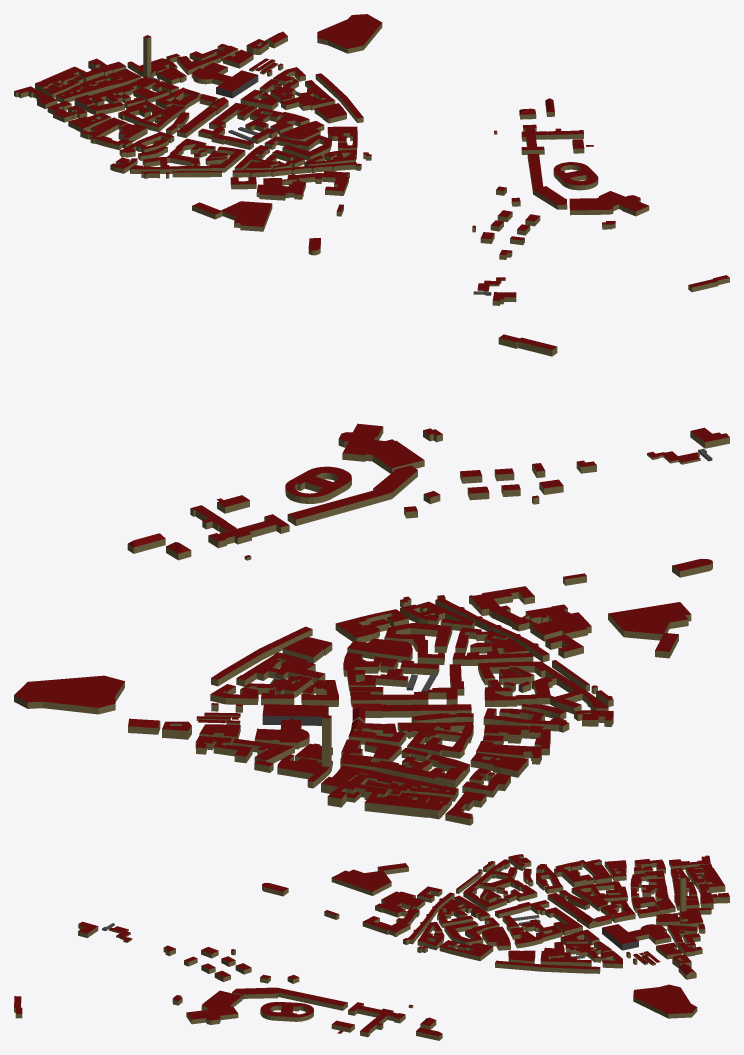
File: Ingolstadt_Tile_6_7.obj
The picture shows the model from 3 angles, top to bottom: view 1: azimuth 30°, elevation 25°; view 2: azimuth 150°, elevation 25°; view 3: azimuth 270°, elevation 25°; orthographic projection. The views are drawn at different scales.
Parts seen in each view (by area): view 1: Building Stadttheater, Building Sportbad a. d. Jahnstr., Building338, Building334, Building Turm Baur, Building333, Building Sparkasse Ingolstadt, Building Stadt Ingolstadt, Building337, Building221, Building241, Building Technisches Rathaus (+2 smaller); view 2: Building Stadttheater, Building Sportbad a. d. Jahnstr., Building334, Building338, Building333, Building Turm Baur, Building337, Building Sparkasse Ingolstadt, Building Leo-von-Klenze-Berufsschule II, Building241, Building Stadt Ingolstadt, Building Technisches Rathaus (+3 smaller); view 3: Building Stadttheater, Building334, Building Sportbad a. d. Jahnstr., Building338, Building Turm Baur, Building337, Building333, Building Sparkasse Ingolstadt, Building Stadt Ingolstadt, Building Leo-von-Klenze-Berufsschule II, Building241, Building221 (+5 smaller).
Boxes of the visible parts, x1,y1,x2,y2 form: Building Stadttheater: [317, 14, 382, 53]; Building Sportbad a. d. Jahnstr.: [221, 201, 272, 231]; Building338: [569, 191, 634, 215]; Building334: [527, 154, 567, 209]; Building Turm Baur: [553, 162, 598, 190]; Building333: [287, 171, 349, 195]; Building Sparkasse Ingolstadt: [216, 70, 258, 98]; Building Stadt Ingolstadt: [191, 62, 231, 85]; Building337: [315, 73, 363, 122]; Building221: [198, 127, 253, 149]; Building241: [279, 121, 324, 141]; Building Technisches Rathaus: [177, 106, 218, 137]; Building Stadttheater: [14, 675, 124, 714]; Building Sportbad a. d. Jahnstr.: [608, 602, 691, 640]; Building334: [287, 465, 417, 525]; Building338: [342, 434, 424, 473]; Building333: [469, 586, 534, 631]; Building Turm Baur: [285, 466, 351, 503]; Building337: [211, 626, 312, 686]; Building Sparkasse Ingolstadt: [262, 704, 328, 725]; Building Leo-von-Klenze-Berufsschule II: [208, 514, 289, 548]; Building241: [347, 638, 412, 662]; Building Stadt Ingolstadt: [254, 718, 309, 749]; Building Technisches Rathaus: [381, 704, 471, 717]; Building Stadttheater: [633, 984, 697, 1018]; Building334: [232, 987, 347, 1010]; Building Sportbad a. d. Jahnstr.: [331, 869, 391, 895]; Building338: [201, 990, 242, 1020]; Building Turm Baur: [260, 1002, 313, 1021]; Building337: [495, 960, 600, 973]; Building333: [362, 908, 419, 936]; Building Sparkasse Ingolstadt: [602, 924, 638, 950]; Building Stadt Ingolstadt: [628, 924, 671, 944]; Building Leo-von-Klenze-Berufsschule II: [348, 1002, 405, 1023]; Building241: [482, 926, 510, 950]; Building221: [495, 900, 549, 918].
Bounding box in the file's own units: 652 × 63 × 1081.
